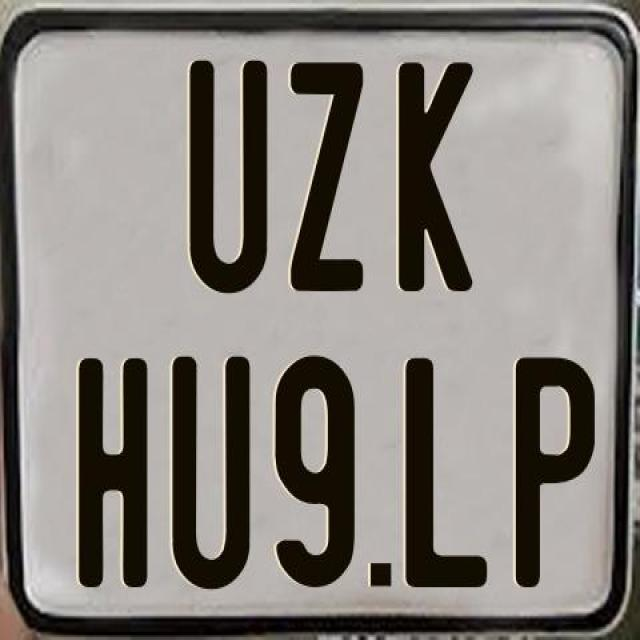9: (270, 350, 352, 590)
H: (79, 358, 152, 589)
K: (397, 61, 472, 296)
L: (404, 357, 492, 589)
P: (514, 352, 594, 582)
U: (168, 356, 254, 594), (187, 58, 270, 290)
Z: (289, 61, 364, 290)
